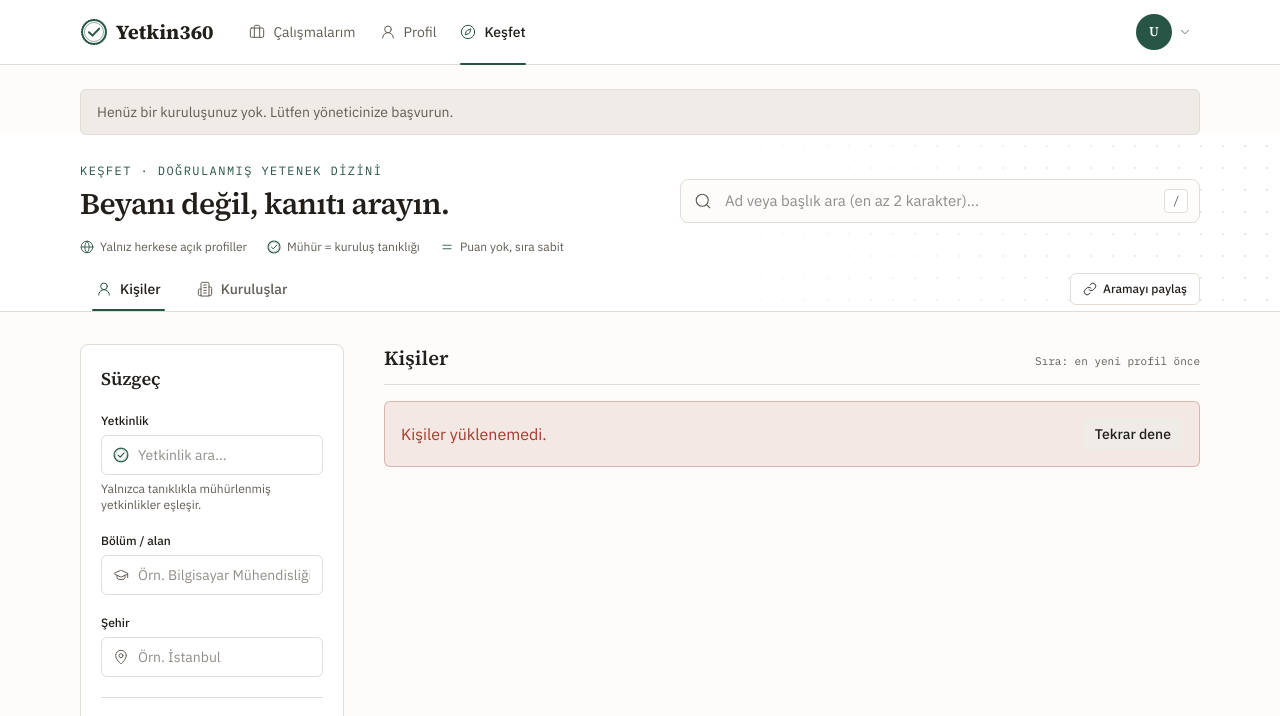
Scenario: KesfetPage (/kesfet) › Öğrenciler sekmesi › hata verirse mesaj ve tekrar dene butonu gösterir, tekrar dener
This screenshot has width=1280, height=716.
Expected: the text "Kişiler yüklenemedi." is shown, [401,422,547,446]
Click the button "Tekrar dene".
click(1133, 434)  # box [1083,418,1183,450]
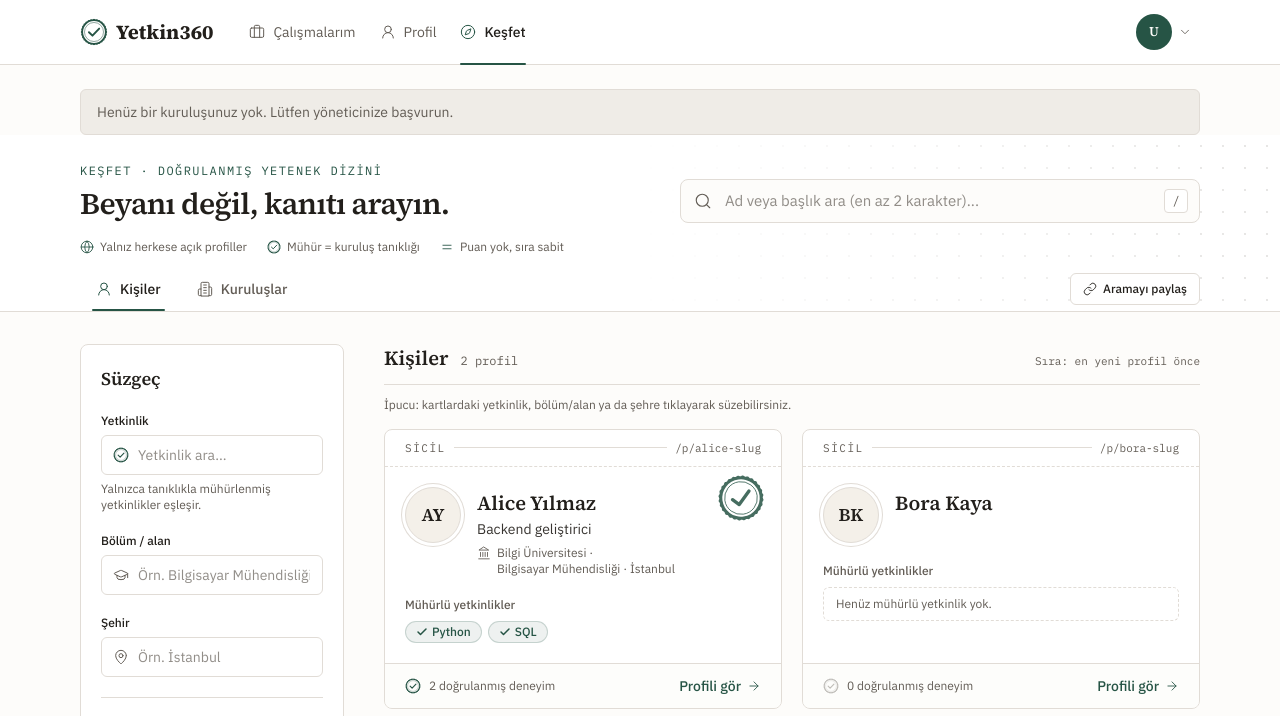
Result: the heading "Alice Yılmaz" is shown at [477,489,596,517]
